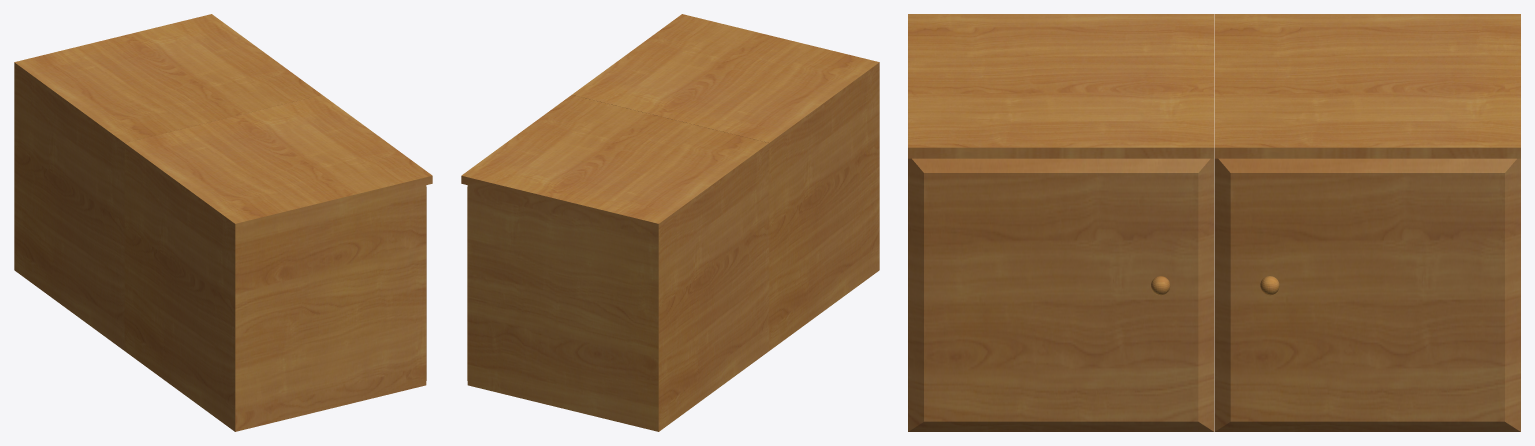
File: doubleCabnit.obj
3 renders of one model, left to right at view 1: azimuth 30°, elevation 25°; view 2: azimuth 150°, elevation 25°; view 3: azimuth 270°, elevation 25°, orthographic. The views are drawn at different scales.
Parts seen in each view (by area): view 1: Cube, Cube.001; view 2: Cube.001, Cube; view 3: Cube.001, Cube.
Boxes of the visible parts, x1,y1,x2,y2 form: Cube: (124, 95, 432, 431); Cube.001: (14, 14, 321, 350); Cube.001: (461, 95, 769, 431); Cube: (572, 14, 879, 350); Cube.001: (1214, 14, 1520, 431); Cube: (908, 14, 1214, 431).
Bounding box in the file's own units: 3.51 × 3.4 × 6.54.
